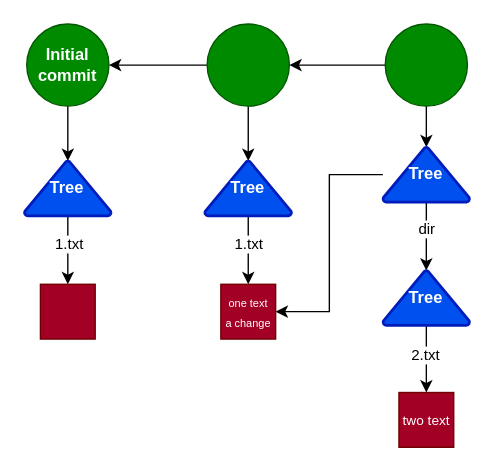
Image size: 495x471. Some labels were removed from this diagram. Each missing label, with the box of its shape:
one text: (39, 283, 95, 339)
Second commit: (206, 23, 289, 106)
Third Commit: (384, 23, 467, 106)
